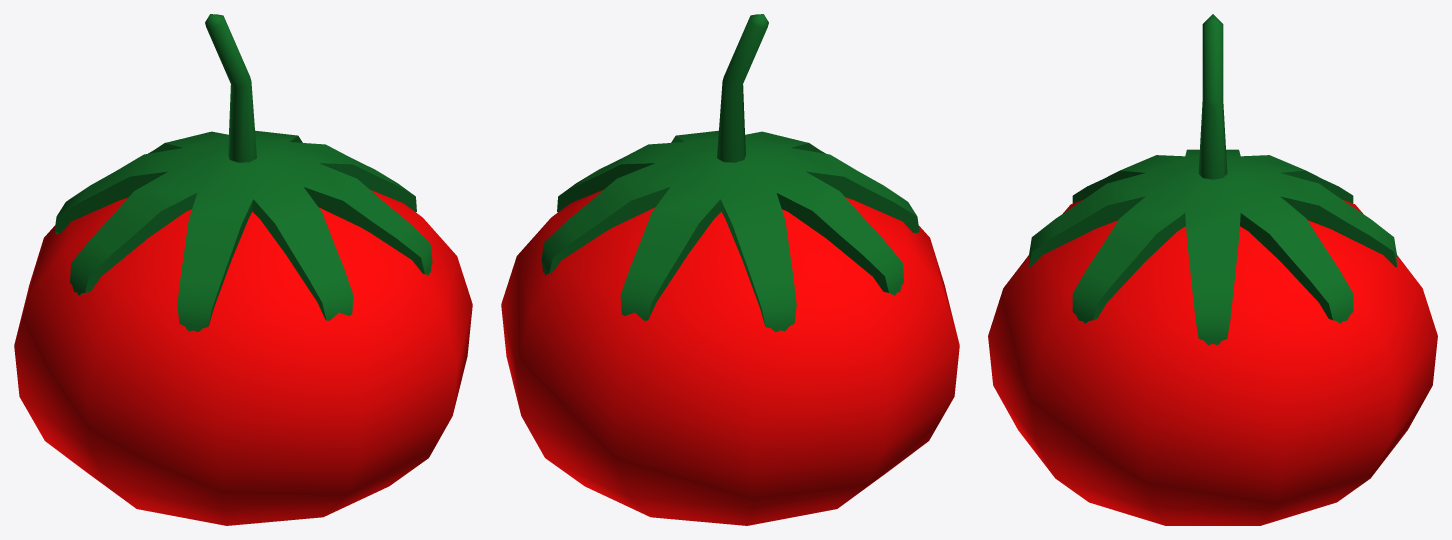
File: tomato.glb
The picture shows the model from 3 angles, left to right: view 1: azimuth 30°, elevation 25°; view 2: azimuth 150°, elevation 25°; view 3: azimuth 270°, elevation 25°; orthographic projection. The views are drawn at different scales.
Size of the model in its own units: 0.391 by 0.4729 by 0.4111.
